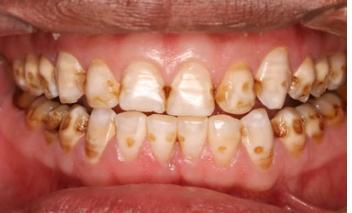LL1BC_sdecay: (272, 111, 306, 157)
LL2BC_sdecay: (306, 108, 325, 142)
LLCI_mdecay: (177, 118, 208, 166)
LLC_mdecay: (241, 112, 272, 169)
LLLI_mdecay: (115, 115, 146, 166)
LR1BC_sdecay: (59, 105, 84, 157)
LR2BC_sdecay: (42, 105, 59, 140)
LRCI_mdecay: (146, 116, 177, 170)
LRC_mdecay: (84, 110, 114, 165)
LRLI_mdecay: (208, 117, 241, 168)
UL1BC_sdecay: (291, 50, 312, 104)
UL2BC_sdecay: (312, 56, 330, 98)
ULCI_mdecay: (165, 58, 215, 117)
ULC_mdecay: (256, 46, 292, 109)
ULLI_mdecay: (216, 62, 256, 113)
UR1BC_sdecay: (38, 57, 56, 99)
UR2BC_sdecay: (25, 56, 39, 95)
URCI_mdecay: (118, 56, 165, 115)
URC_mdecay: (55, 52, 84, 103)
URLI_mdecay: (85, 60, 118, 109)
